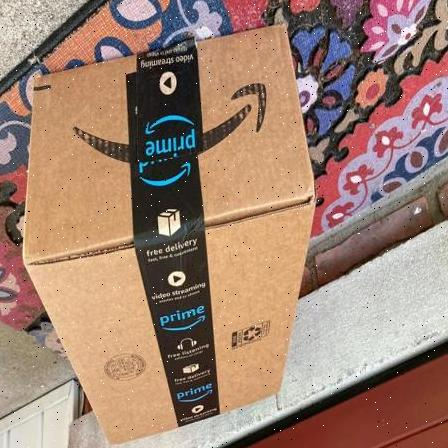Amazon: (13, 28, 312, 445)
